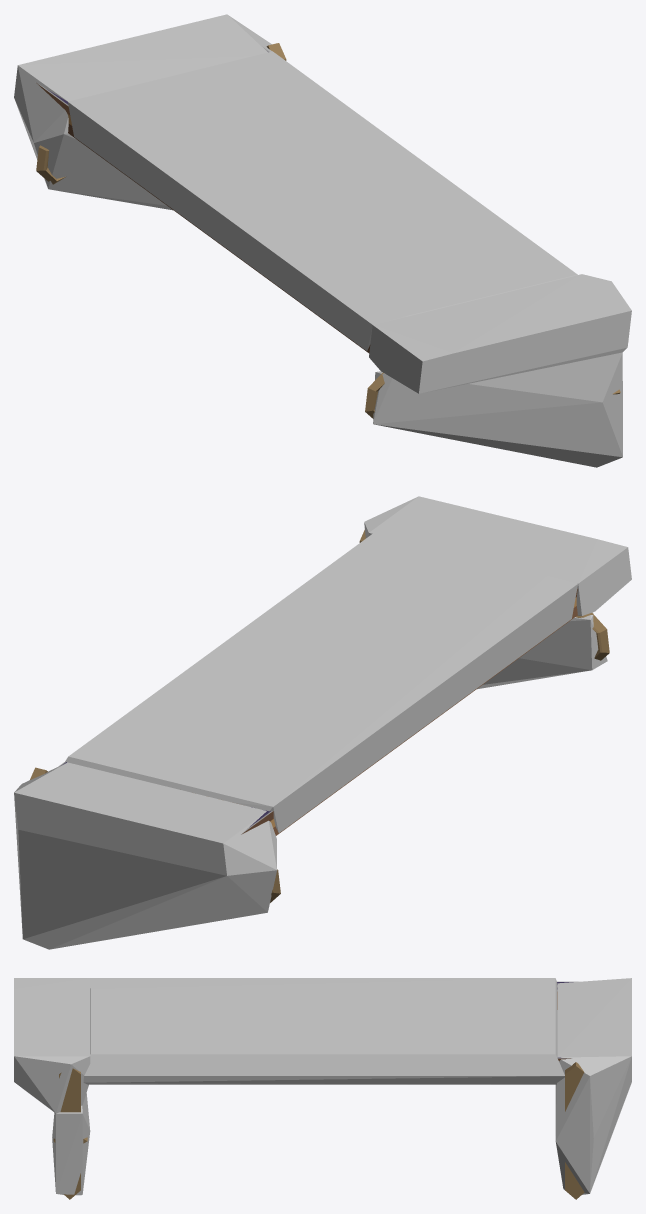
File: SM_Prop_Shelf_02.fbx
3 views of the same model, one above another, from view 1: azimuth 30°, elevation 25°; view 2: azimuth 150°, elevation 25°; view 3: azimuth 270°, elevation 25° (orthographic). The views are drawn at different scales.
Parts seen in each view (by area): view 1: SM_Prop_Shelf_02_ConvexHulls, SM_Prop_Shelf_02; view 2: SM_Prop_Shelf_02_ConvexHulls, SM_Prop_Shelf_02; view 3: SM_Prop_Shelf_02_ConvexHulls, SM_Prop_Shelf_02.
Part boxes in pixels (x1,y1,x2,y2): SM_Prop_Shelf_02_ConvexHulls: (14, 14, 631, 467); SM_Prop_Shelf_02: (36, 43, 620, 418); SM_Prop_Shelf_02_ConvexHulls: (14, 496, 631, 949); SM_Prop_Shelf_02: (30, 529, 609, 902); SM_Prop_Shelf_02_ConvexHulls: (14, 978, 631, 1195); SM_Prop_Shelf_02: (53, 981, 584, 1199).
Size of the model in its own units: 60.17 by 170 by 42.36.
2 materials, 1 textured.
